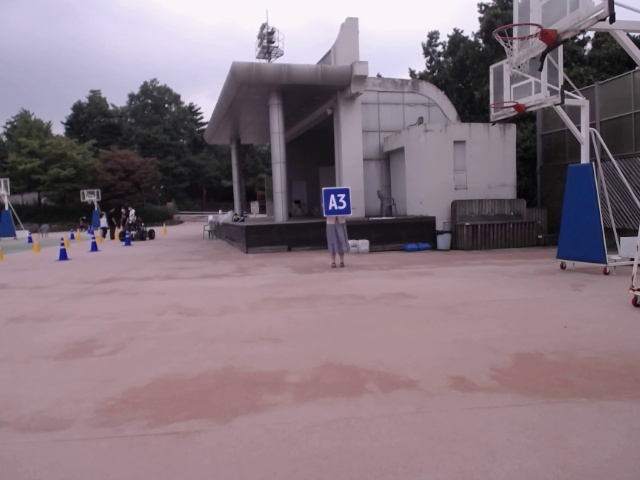delivery_a3: (322, 187, 352, 216)
